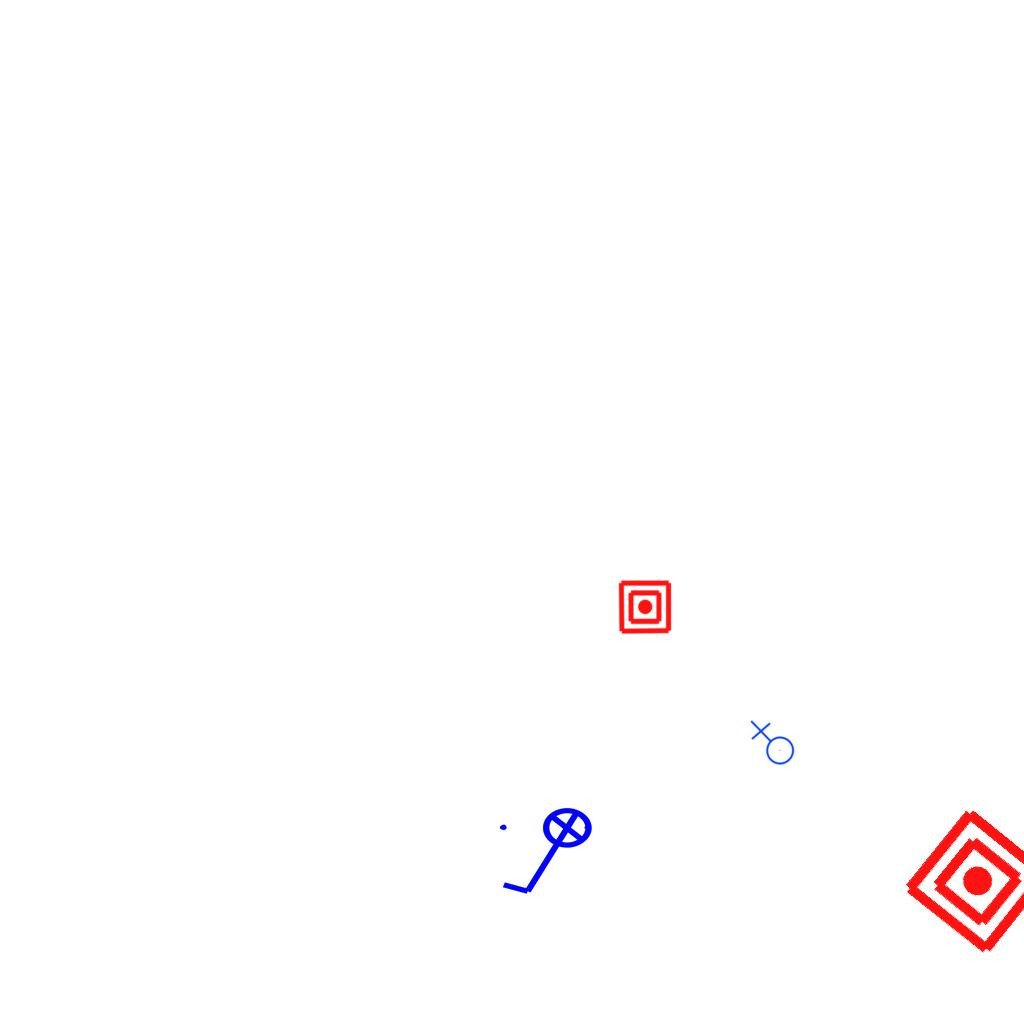Ausschalter_beleuchtet: (494, 806, 606, 902)
Elektroanschluss_allgemein_230V_Geraeteanschlussdose_230V: (748, 720, 795, 769)
NAM-Nichtautomatischer_Melder: (898, 802, 1024, 961), (617, 579, 673, 635)
